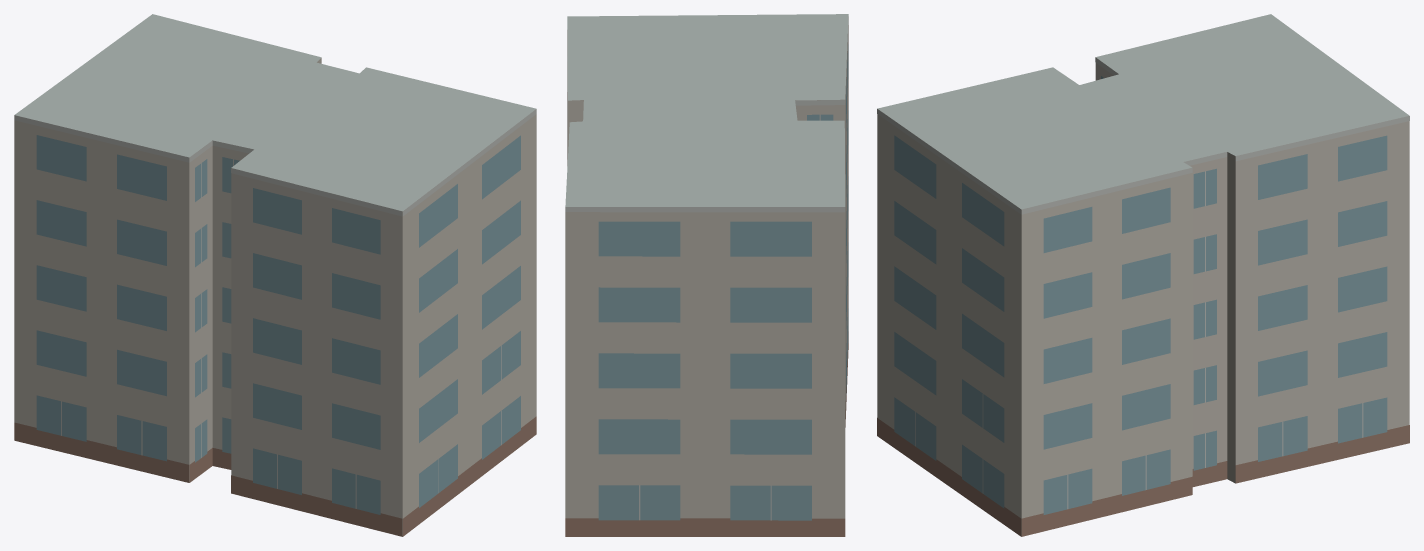
The model's file is survey-upis-32712004.glb.
3 views of the same model, side by side, from view 1: azimuth 30°, elevation 25°; view 2: azimuth 150°, elevation 25°; view 3: azimuth 270°, elevation 25° (orthographic).
Visible parts, largest first — view 1: survey-upis-32712004.tmp; view 2: survey-upis-32712004.tmp; view 3: survey-upis-32712004.tmp.
Boxes of the visible parts, bbox=[...] form: survey-upis-32712004.tmp: bbox=[14, 14, 536, 536]; survey-upis-32712004.tmp: bbox=[565, 14, 848, 536]; survey-upis-32712004.tmp: bbox=[877, 14, 1409, 536].
Size of the model in its own units: 19.54 by 15.25 by 22.49.
